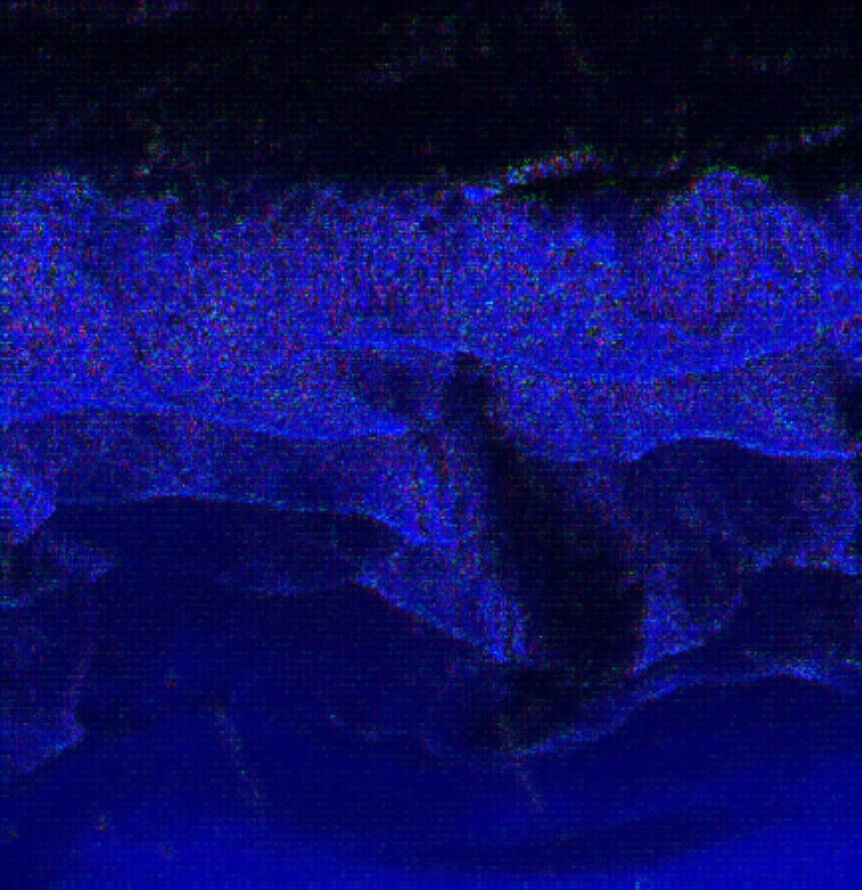rip_current: (342, 176, 687, 663)
